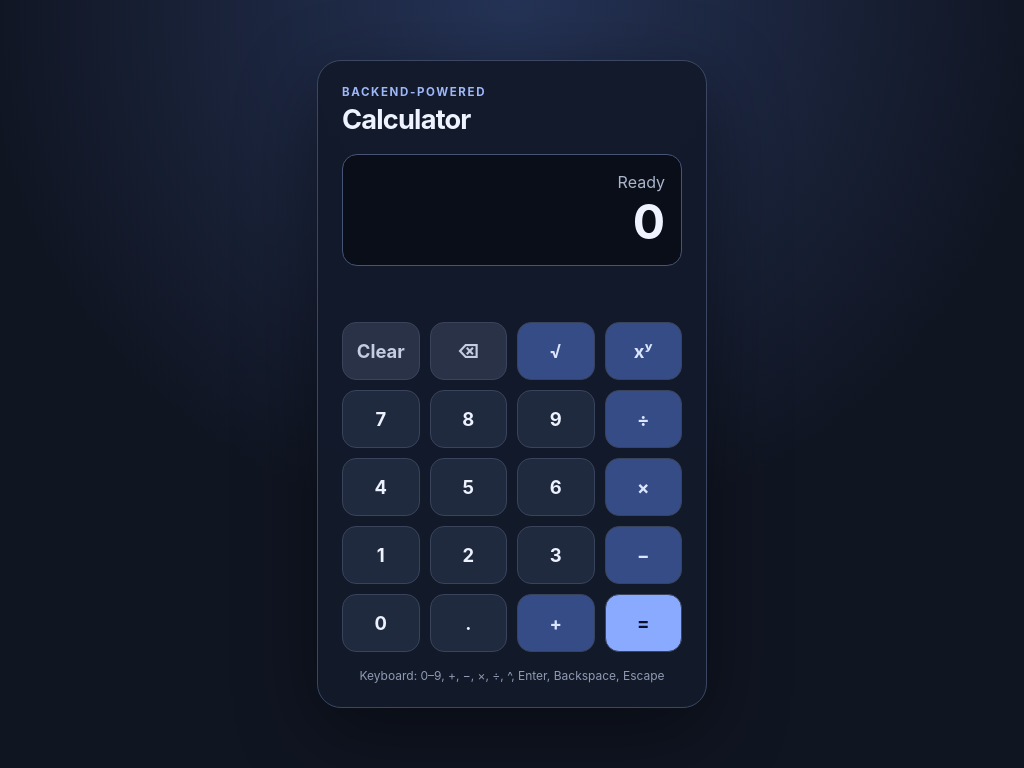
App › submits subtract to the backend and displays its result
The width and height of the screenshot is (1024, 768).
Type keys "2"
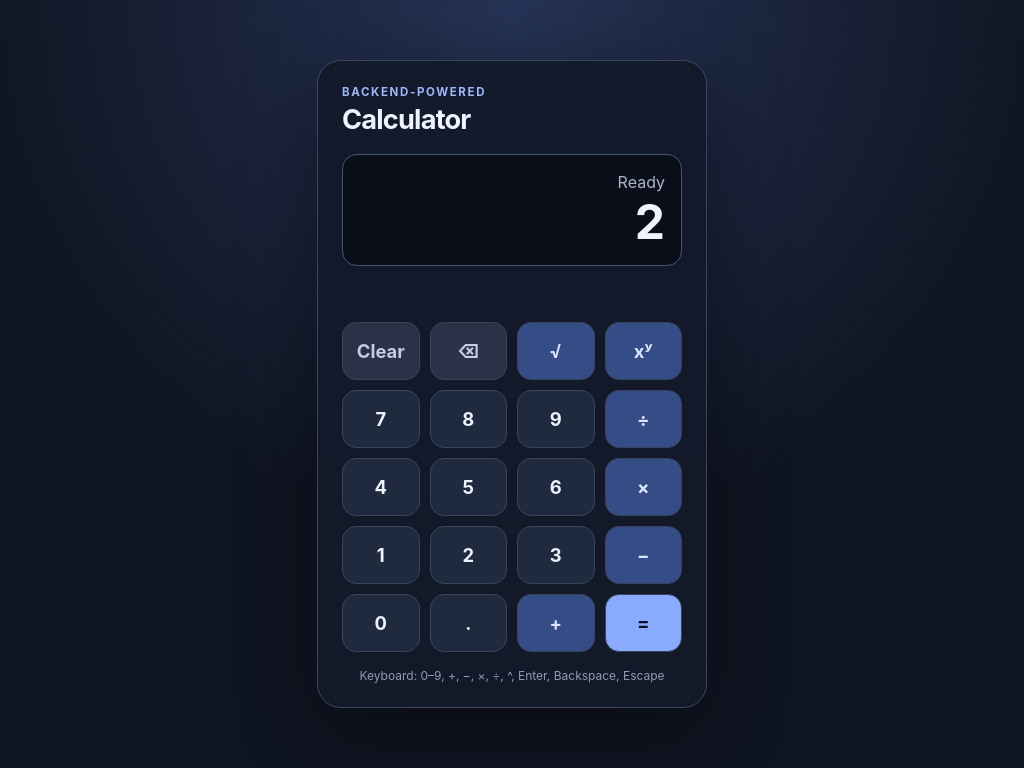
Click the button named "Subtract".
click(643, 555)  # box [604,526,682,584]
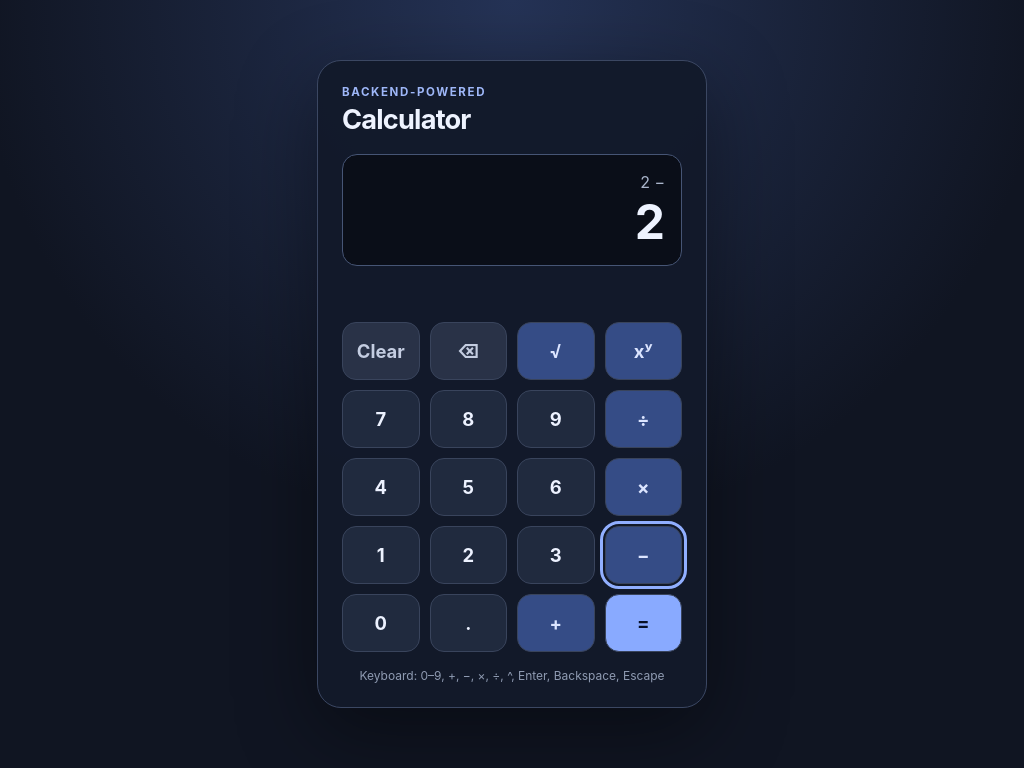
Type keys "5"
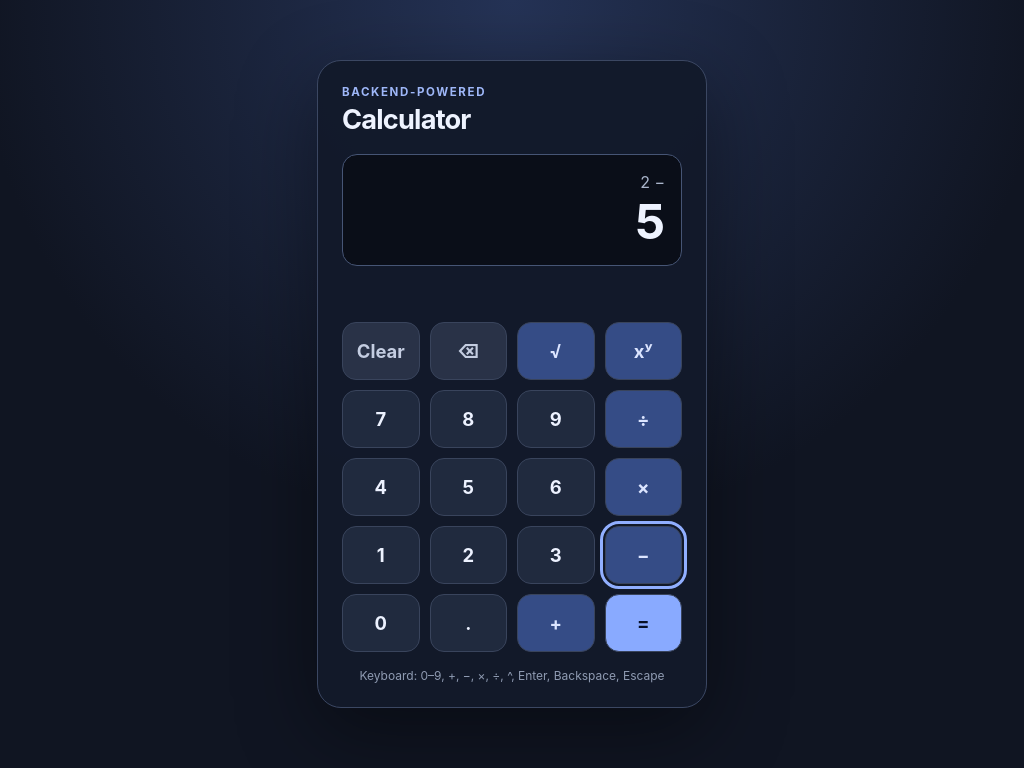
Click the button named "Equals".
click(643, 623)  # box [604,594,682,652]
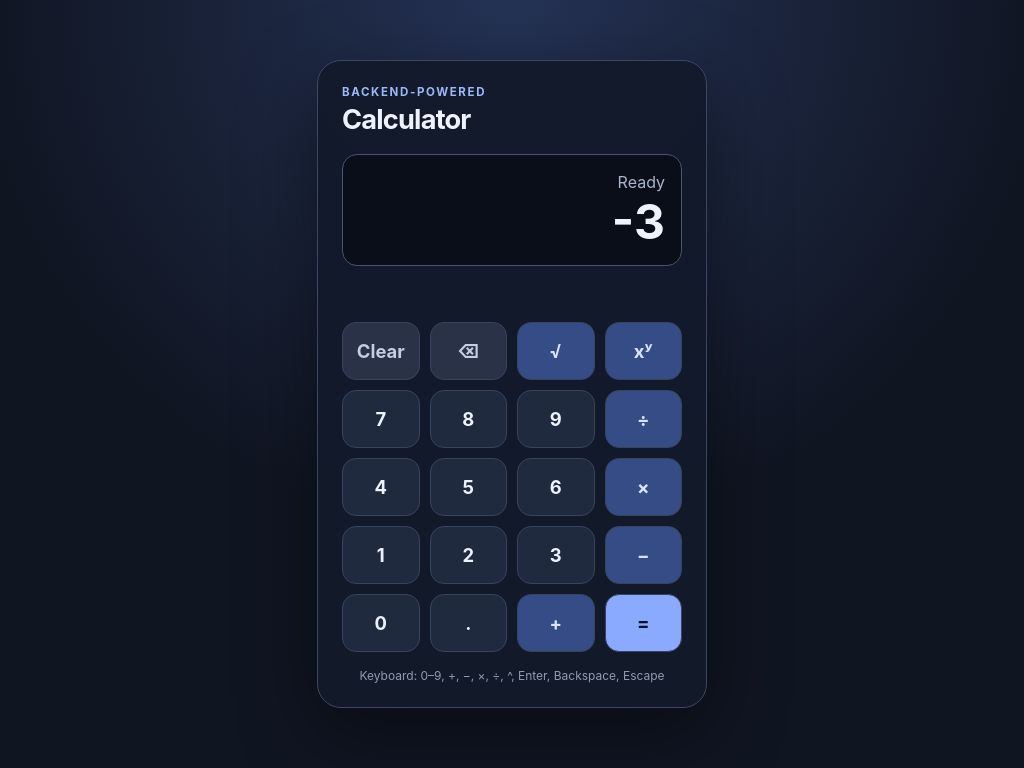
Result: the text with test id "display" reads "-3" at [612,192,665,251]
